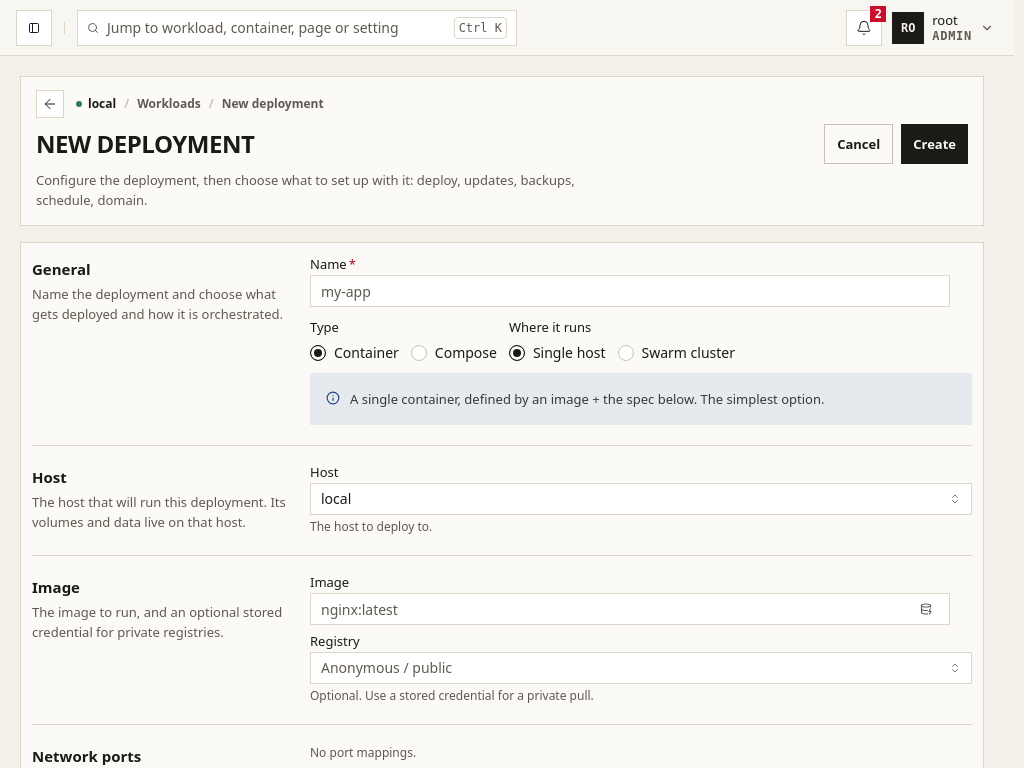
Scenario: new deployment › validates before sending and reports partial failures
Click the button "Create" at (935, 144), box [901, 124, 968, 164]
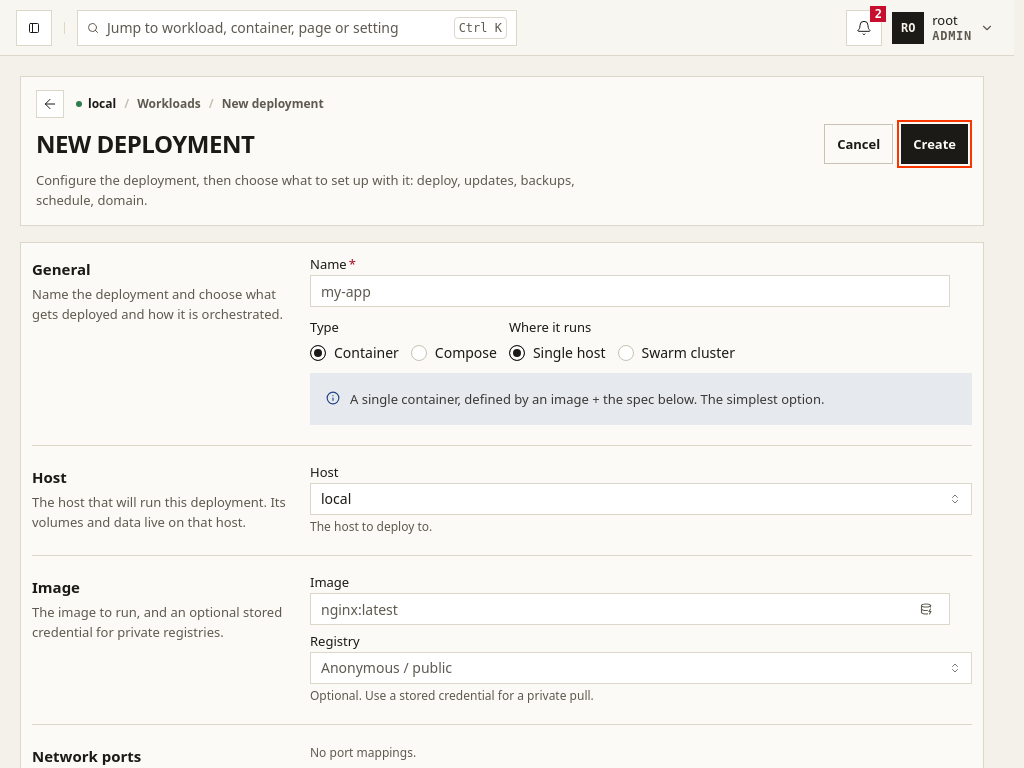
Type "api" into the field labelled "Name*" at (630, 291), box [310, 275, 950, 307]
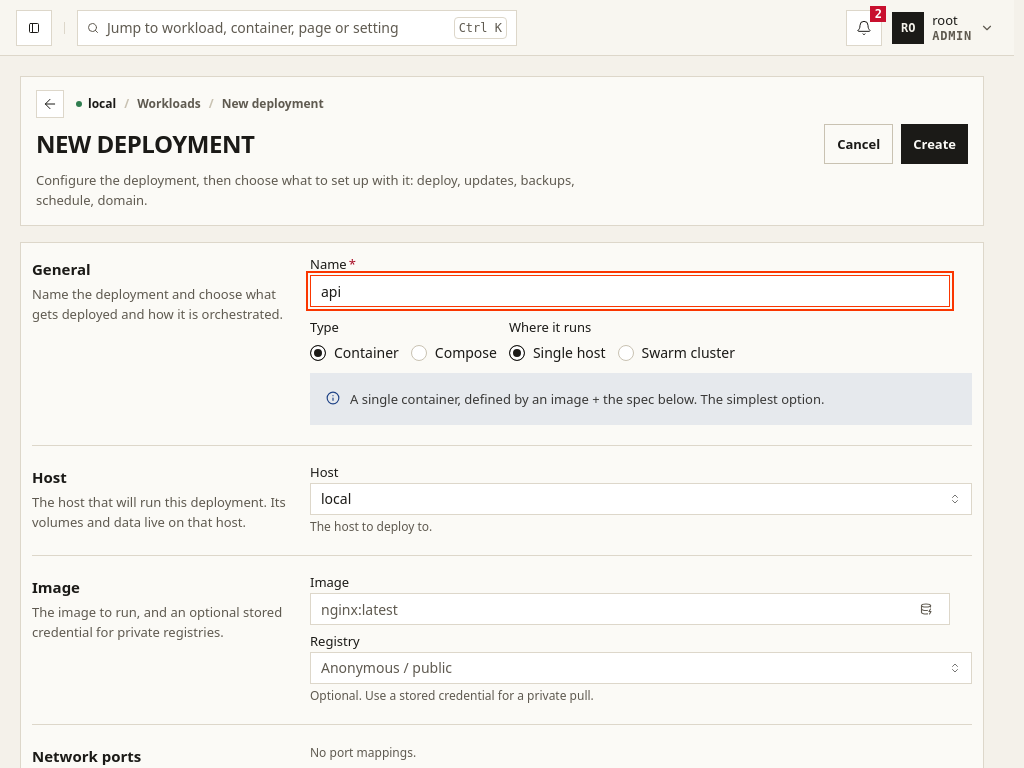
Click the button "Create" at (935, 144), box [901, 124, 968, 164]
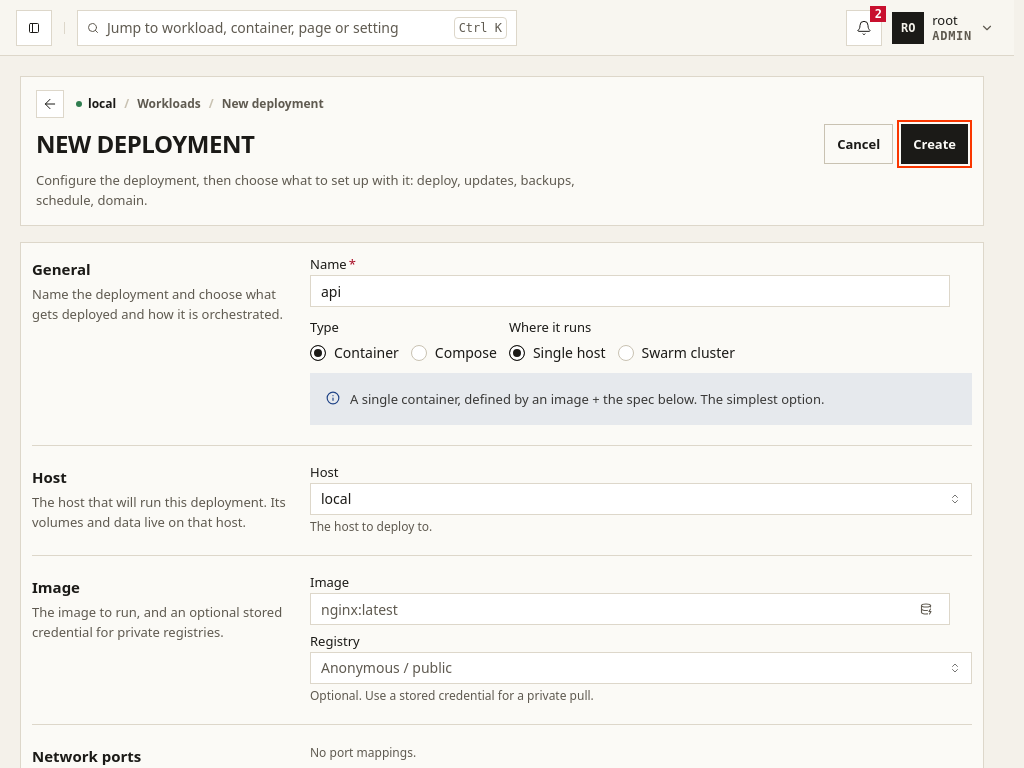
Type "nginx:1.27" into the field labelled "Image" at (630, 609), box [310, 593, 950, 625]
(page scrolled)
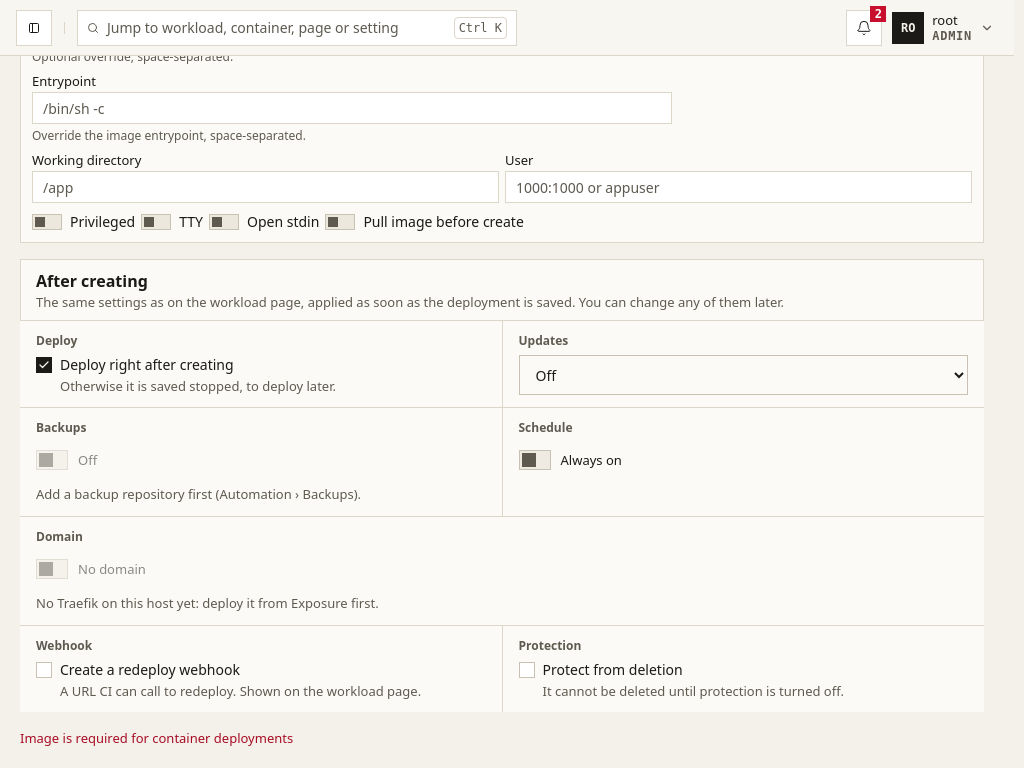
Click the checkbox labelled "Create a redeploy webhook" at (44, 670), box [36, 662, 52, 678]
(page scrolled)
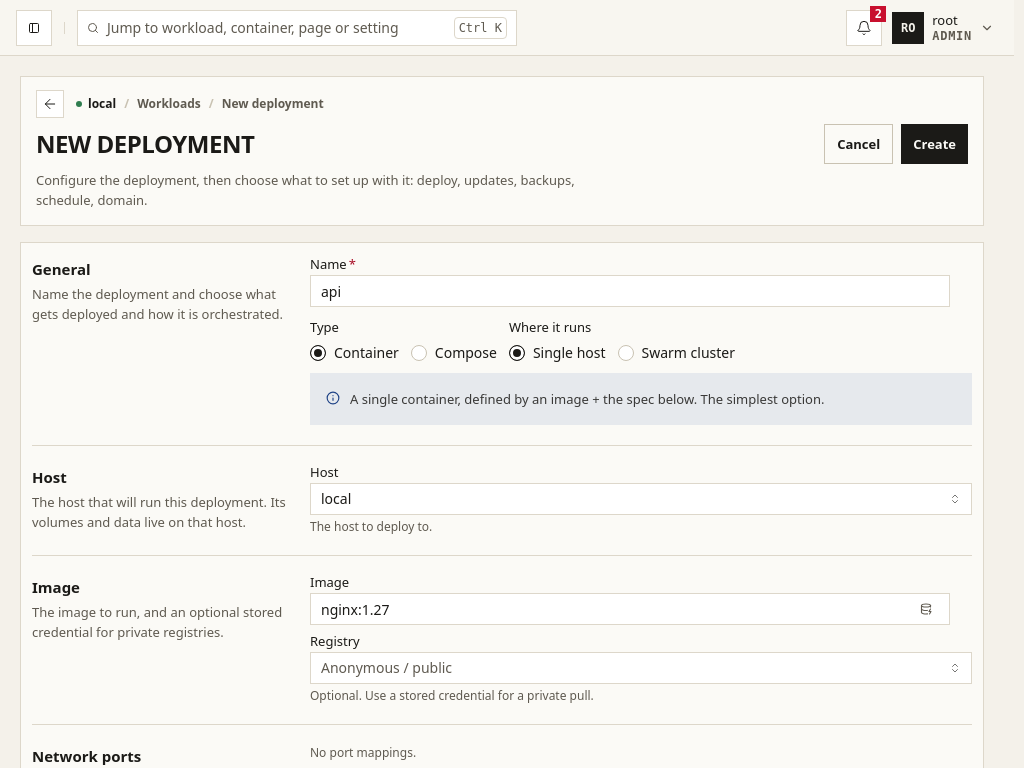
Click the button "Create" at (935, 144), box [901, 124, 968, 164]
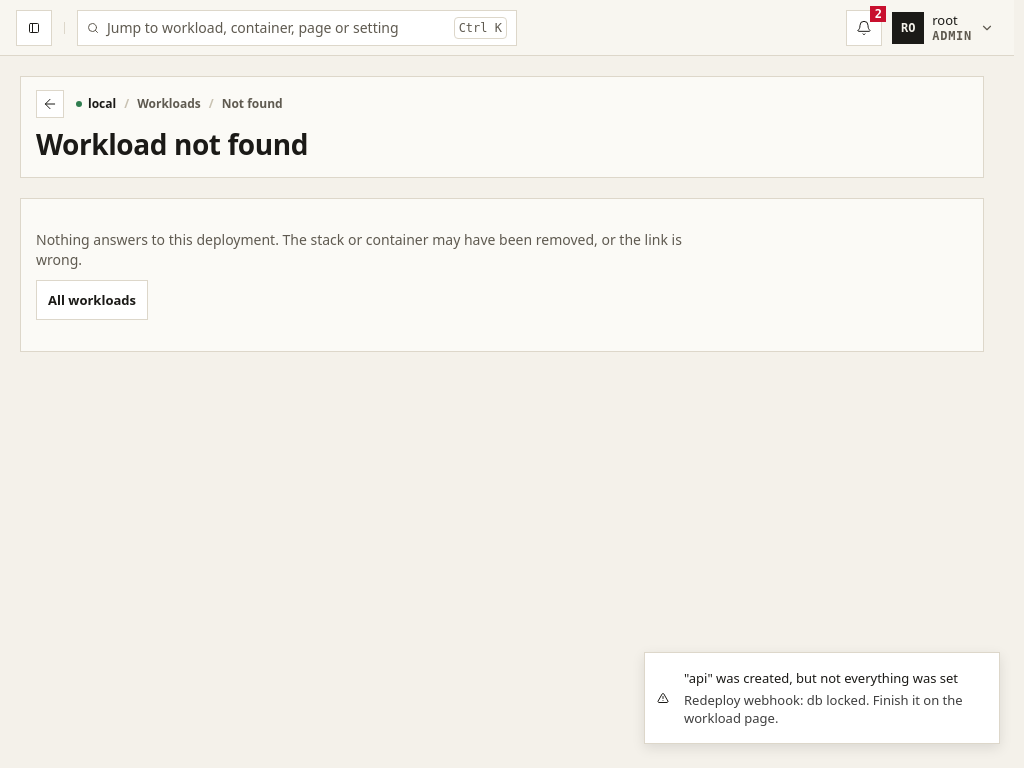
Now the text "\"api\" was created, but not everything was set" is shown, box [684, 669, 983, 689]
